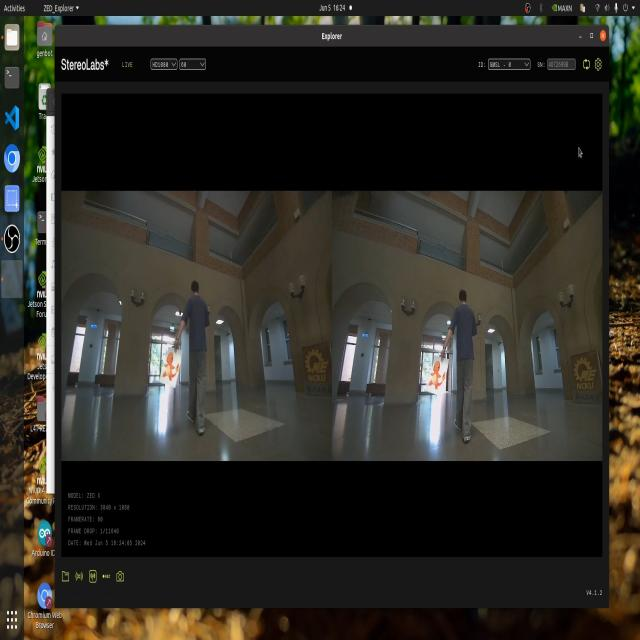red: (165, 350, 179, 384), (429, 365, 446, 392)
